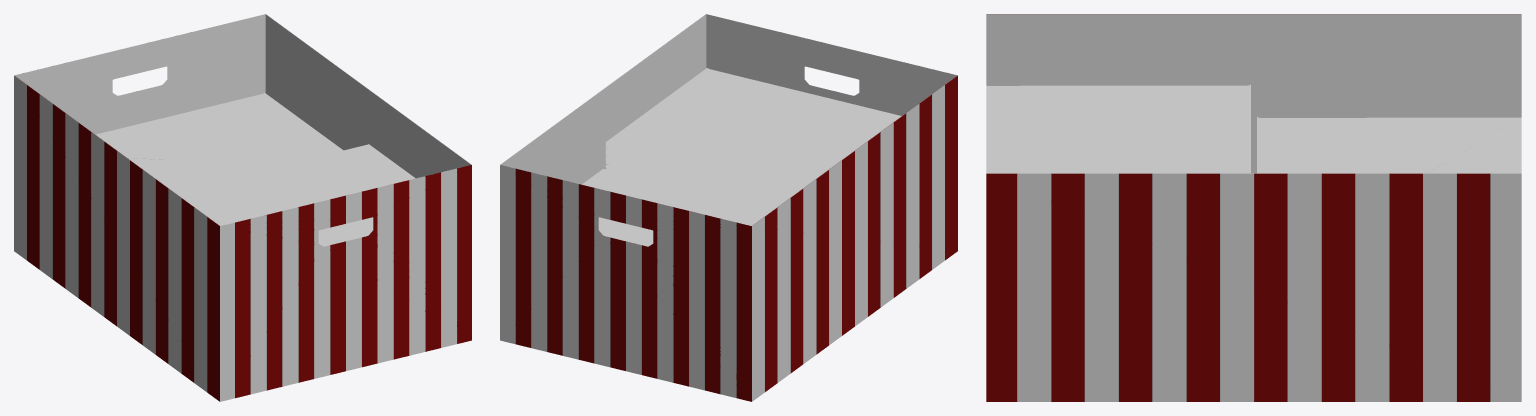
Rendered from stripedplasticboxdecimated.fbx.
The picture shows the model from 3 angles, left to right: view 1: azimuth 30°, elevation 25°; view 2: azimuth 150°, elevation 25°; view 3: azimuth 270°, elevation 25°; orthographic projection. The views are drawn at different scales.
Visible parts, largest first — view 1: Cube.005, Cube.2258, Cube.1259; view 2: Cube.005, Cube.1259, Cube.2258; view 3: Cube.005, Cube.1259, Cube.2258.
Boxes of the visible parts, x1,y1,x2,y2 form: Cube.005: (14, 14, 471, 401); Cube.2258: (96, 93, 343, 191); Cube.1259: (174, 144, 415, 246); Cube.005: (500, 14, 957, 401); Cube.1259: (605, 68, 901, 210); Cube.2258: (582, 169, 772, 246); Cube.005: (986, 14, 1521, 401); Cube.1259: (986, 84, 1250, 173); Cube.2258: (1257, 117, 1521, 173).
Size of the model in its own units: 30 by 20 by 42.5.
Materials: 2 (1 with a texture image).
